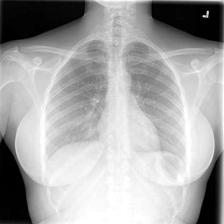normal: (40, 33, 194, 200)
